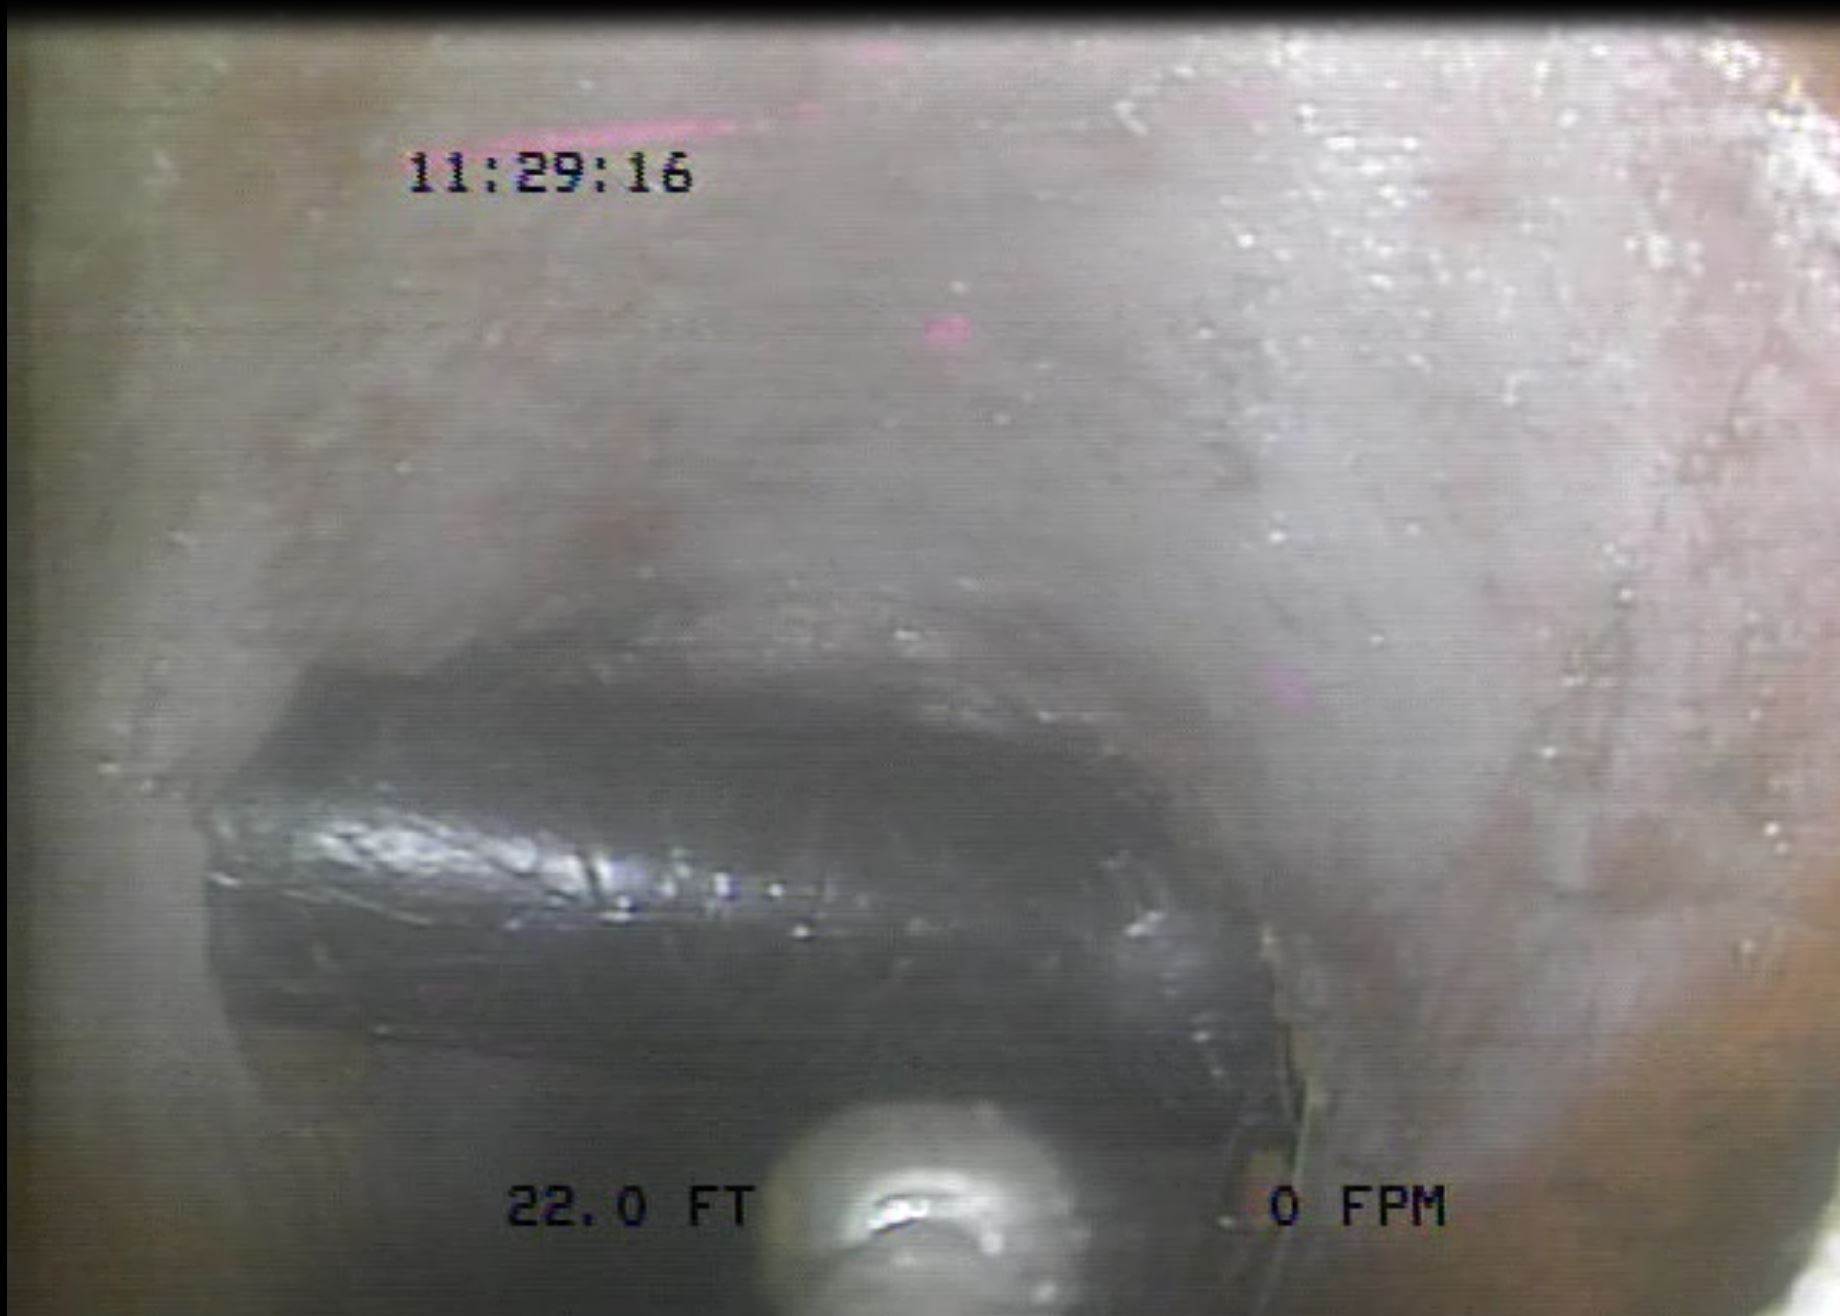cb: (125, 642, 1383, 1174)
